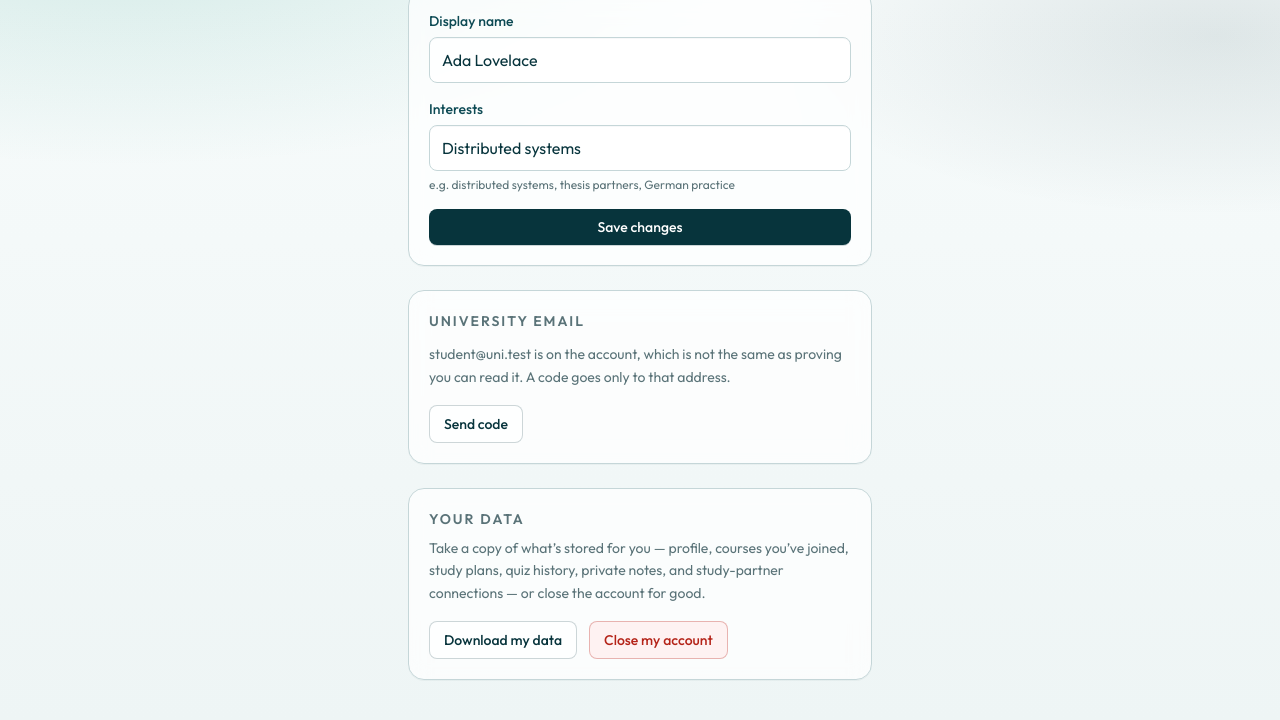
Test: profile page privacy controls › exports personal data as JSON and deletes the account on confirmation
(page scrolled)
Expected: the field showing "Ada Lovelace" is shown, [429,37,851,83]
Click the button "Download my data": point(503, 640) [429,621,577,659]
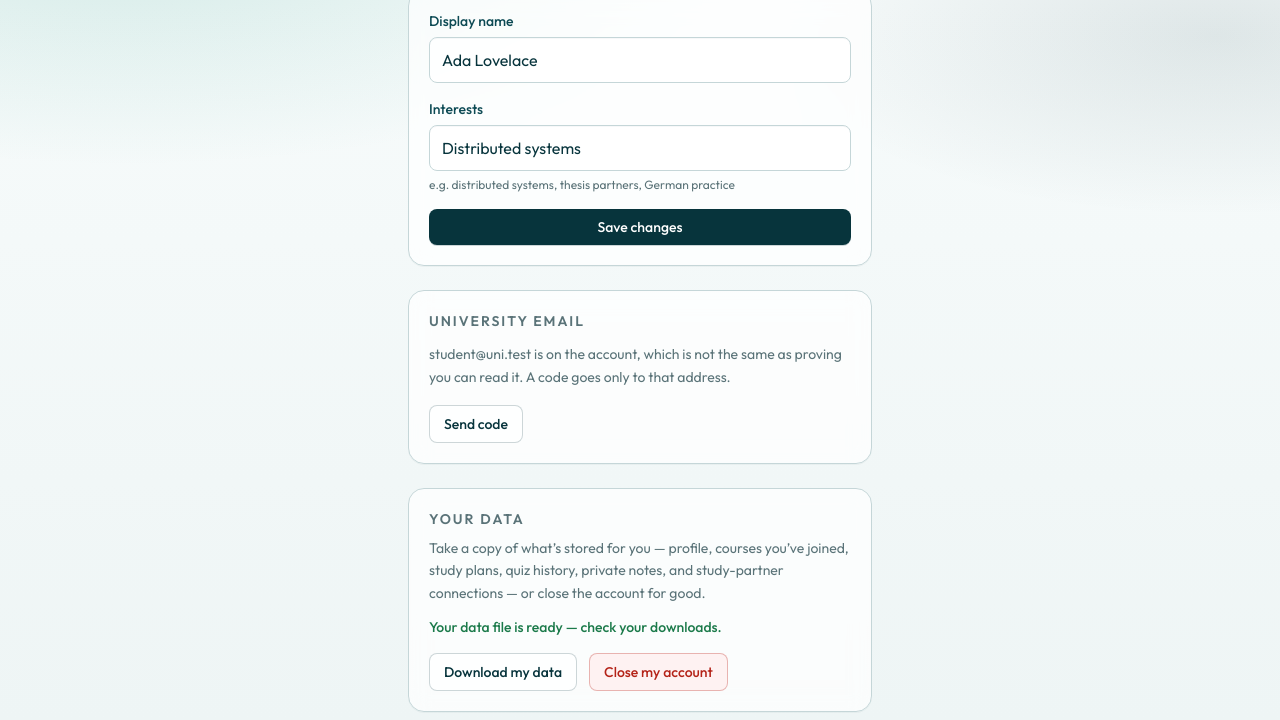
Now the text "Your data file is ready — check your downloads." is shown, box [429,618,722,636]
Click the button "Close my account": point(658, 672) [589,653,728,691]
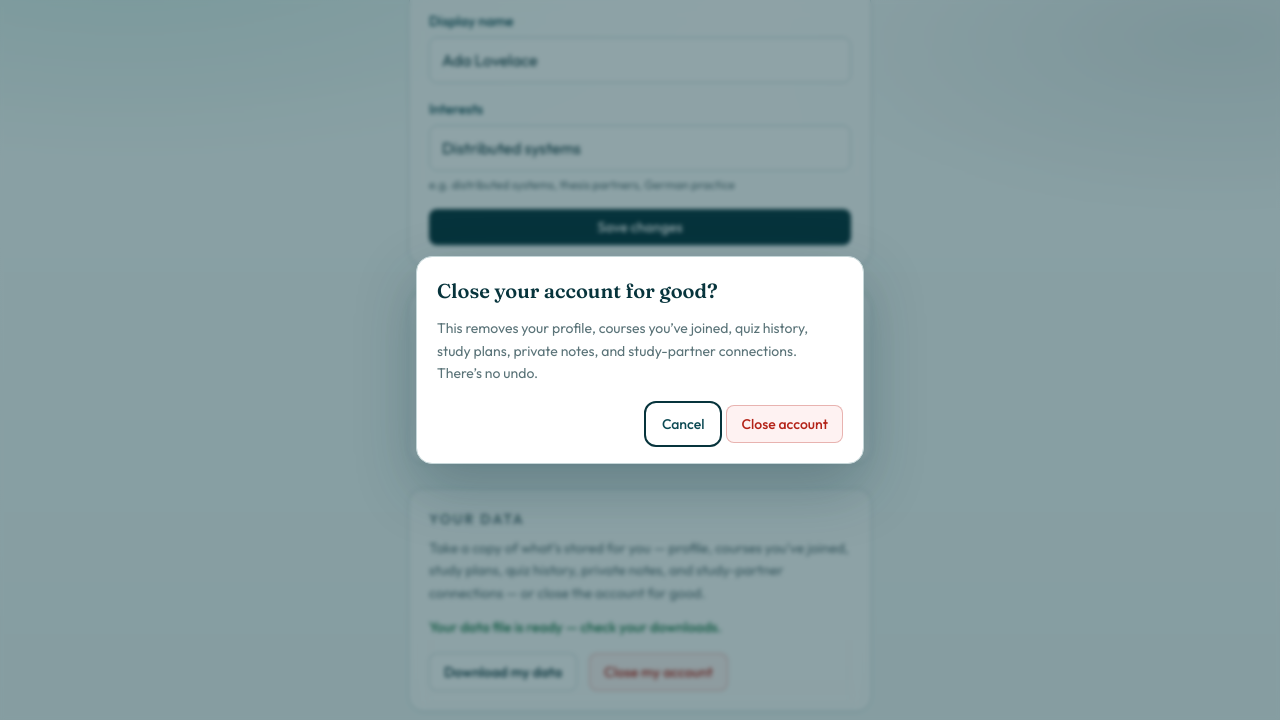
Click the button "Close account": point(785, 424) [726,405,843,443]
(page scrolled)
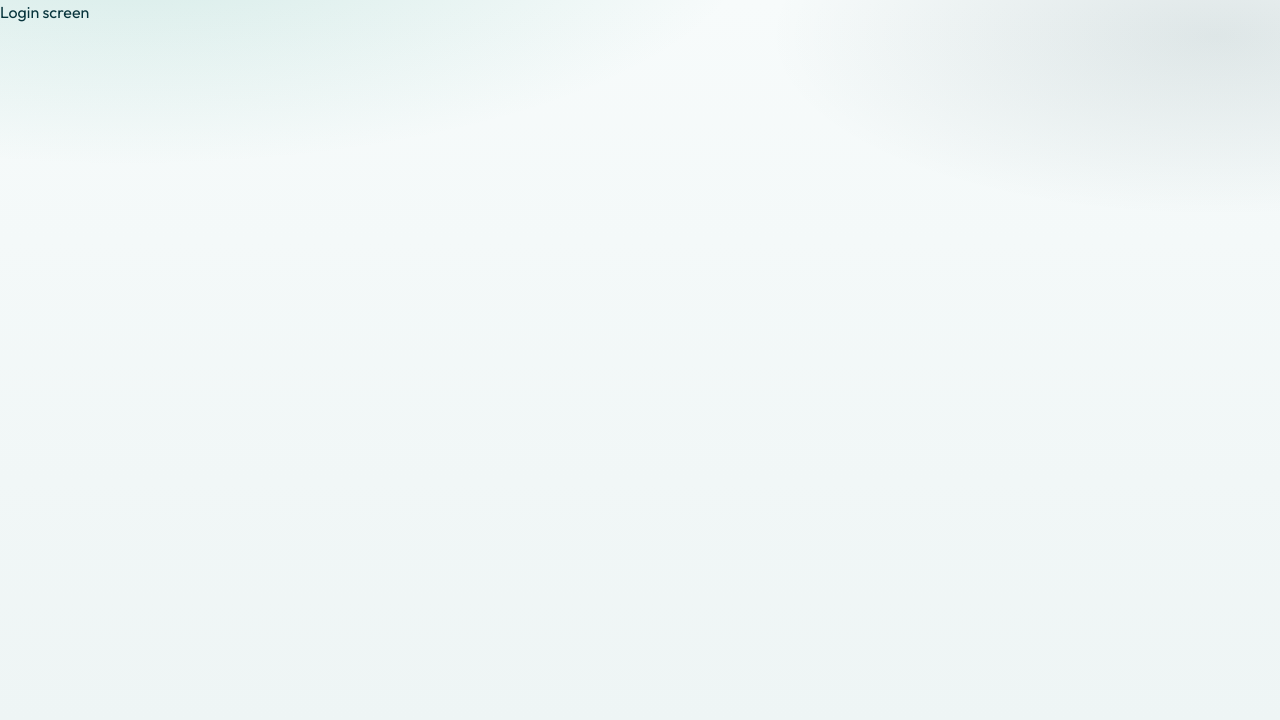
Now the heading "Login screen" is shown, box [0,2,89,22]
